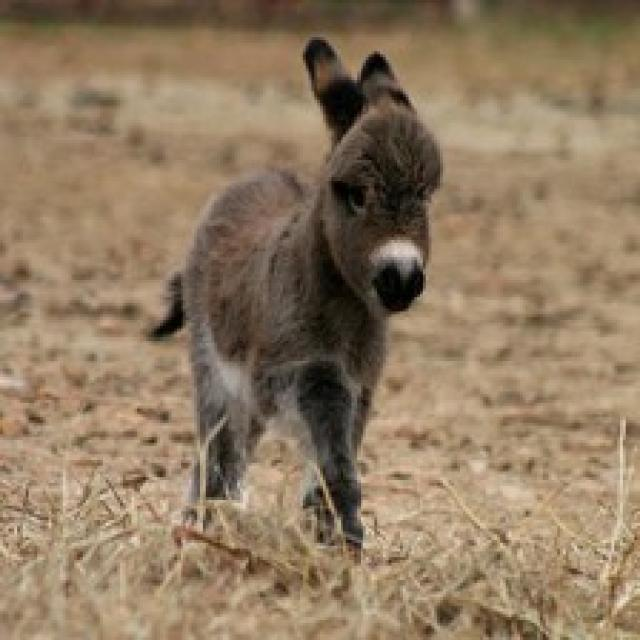Donkey: (146, 34, 443, 560)
